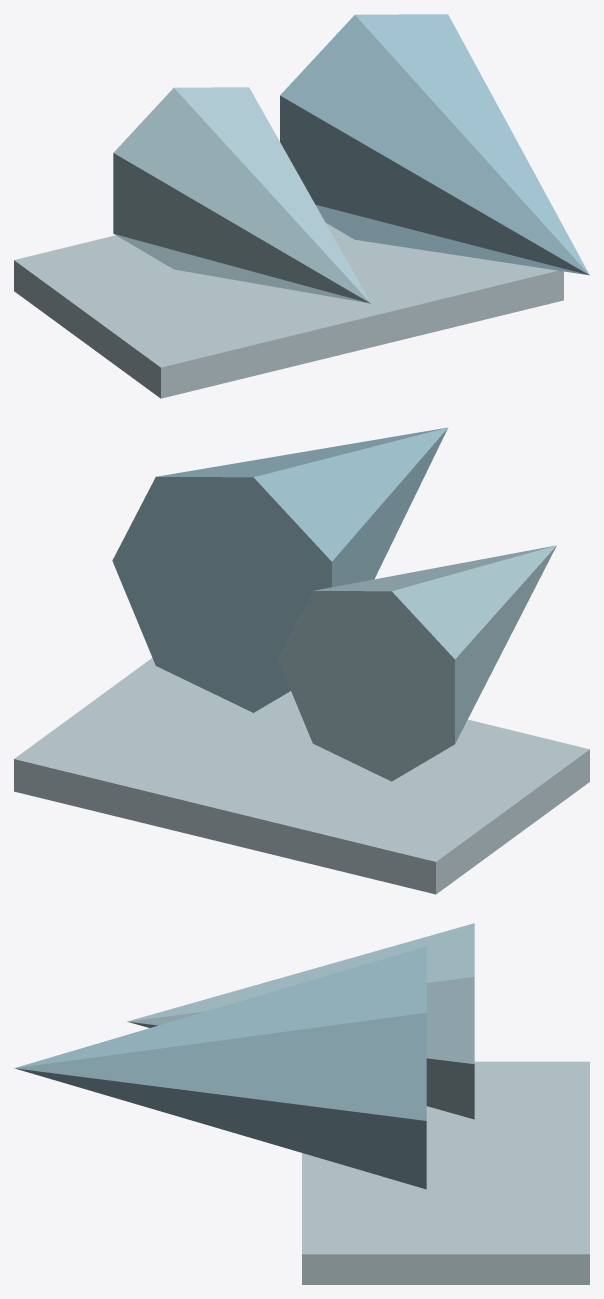
Rendered from crystal_cluster.glb.
The picture shows the model from 3 angles, top to bottom: view 1: azimuth 30°, elevation 25°; view 2: azimuth 150°, elevation 25°; view 3: azimuth 270°, elevation 25°; orthographic projection. The views are drawn at different scales.
Visible parts, largest first — view 1: world; view 2: world; view 3: world.
Part boxes in pixels (x1,y1,x2,y2): world: [14, 14, 589, 398]; world: [14, 427, 589, 894]; world: [14, 923, 589, 1284].
Bounding box in the file's own units: 1.9 × 1.24 × 2.4.
